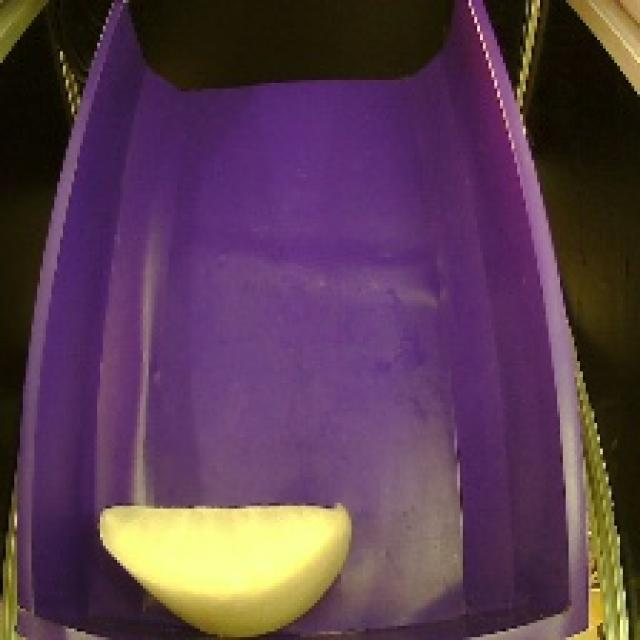white_radish: (90, 464, 373, 639)
